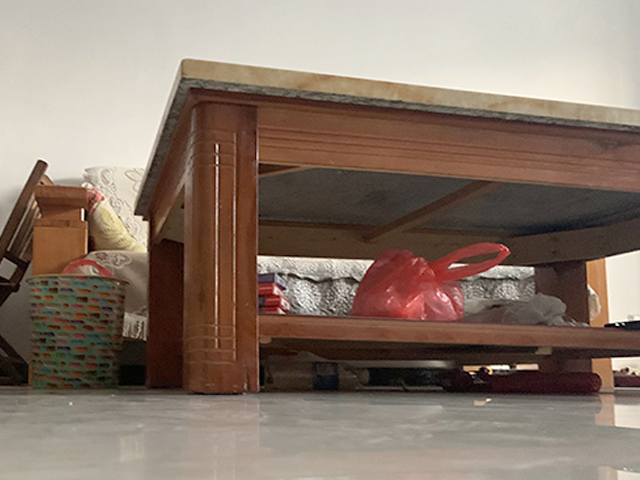table: (131, 57, 639, 397)
trashcan: (27, 273, 130, 389)
